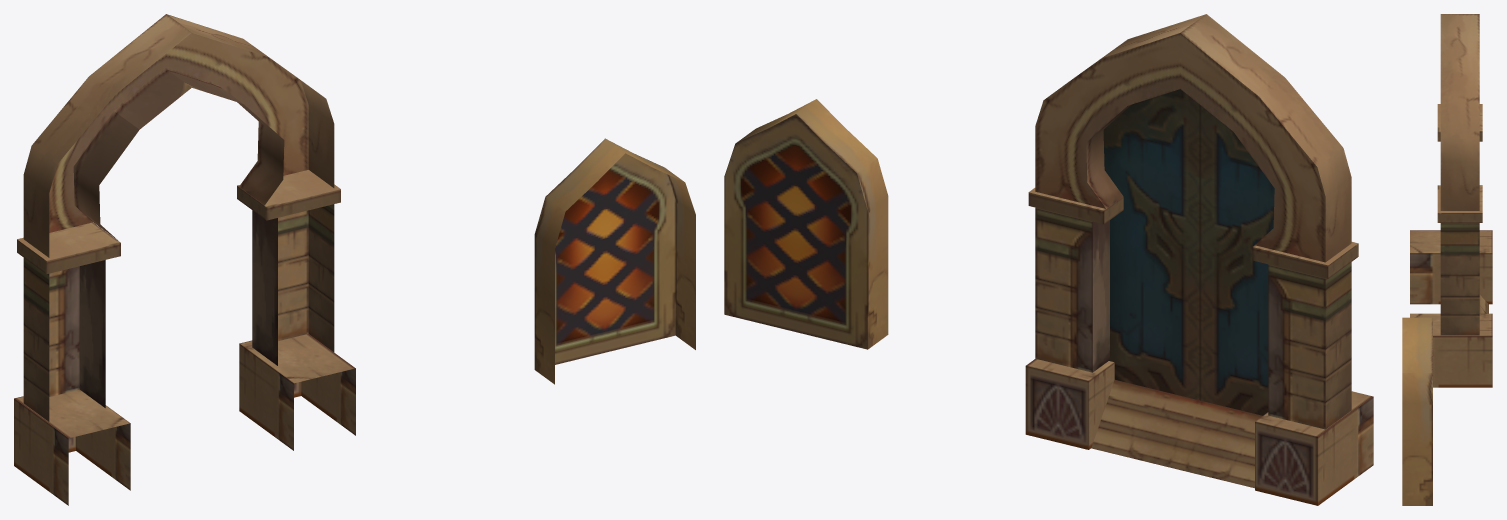
Rendered from 2_SM_MenChuang_01.FBX.
3 views of the same model, side by side, from view 1: azimuth 30°, elevation 25°; view 2: azimuth 150°, elevation 25°; view 3: azimuth 270°, elevation 25° (orthographic). The views are drawn at different scales.
Parts seen in each view (by area): view 1: 2_SM_DaMen_01, 2_SM_ChuanHu_01; view 2: 2_SM_DaMen_01, 2_SM_ChuanHu_01; view 3: 2_SM_DaMen_01, 2_SM_ChuanHu_01.
Part boxes in pixels (box(x1,y1,x2,y2)): 2_SM_DaMen_01: box(14, 14, 355, 505); 2_SM_ChuanHu_01: box(534, 138, 695, 384); 2_SM_DaMen_01: box(1025, 14, 1373, 505); 2_SM_ChuanHu_01: box(724, 99, 888, 349); 2_SM_DaMen_01: box(1410, 14, 1492, 387); 2_SM_ChuanHu_01: box(1402, 317, 1432, 505).
Bounding box in the file's own units: 584 × 378 × 96.14.
Materials: 1 (1 with a texture image).
